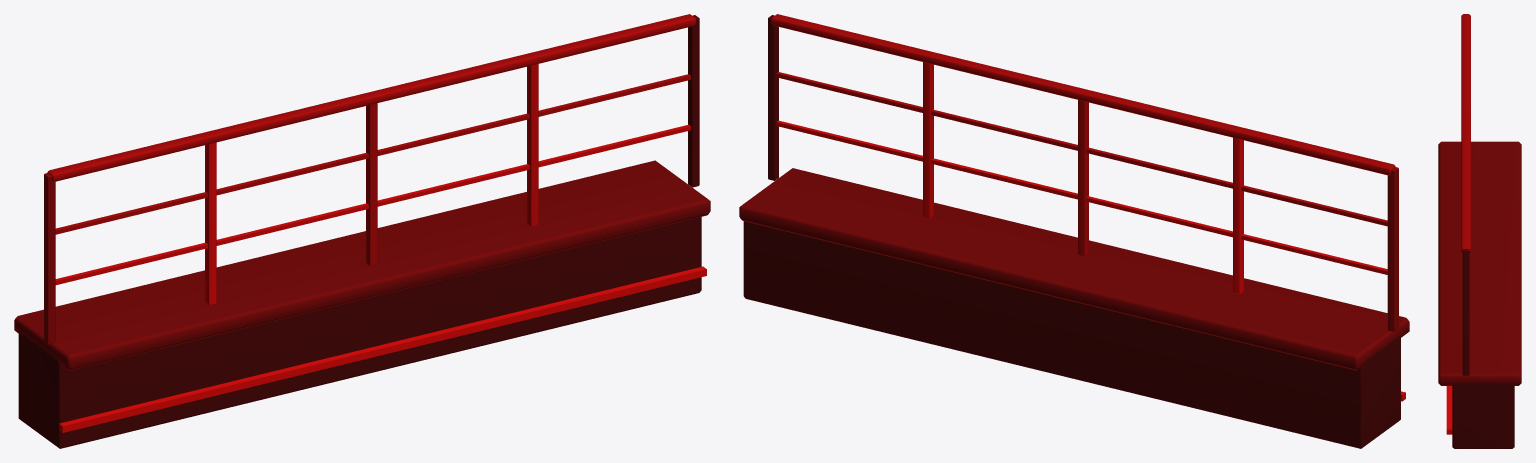
File: cornice_b.glb
3 renders of one model, left to right at view 1: azimuth 30°, elevation 25°; view 2: azimuth 150°, elevation 25°; view 3: azimuth 270°, elevation 25°, orthographic. The views are drawn at different scales.
Parts seen in each view (by area): view 1: cornice_b; view 2: cornice_b; view 3: cornice_b.
Part boxes in pixels (x1,y1,x2,y2): cornice_b: (14,14,710,448); cornice_b: (739,14,1409,448); cornice_b: (1438,14,1521,448).
Bounding box in the file's own units: 4.05 × 1.61 × 0.6.
